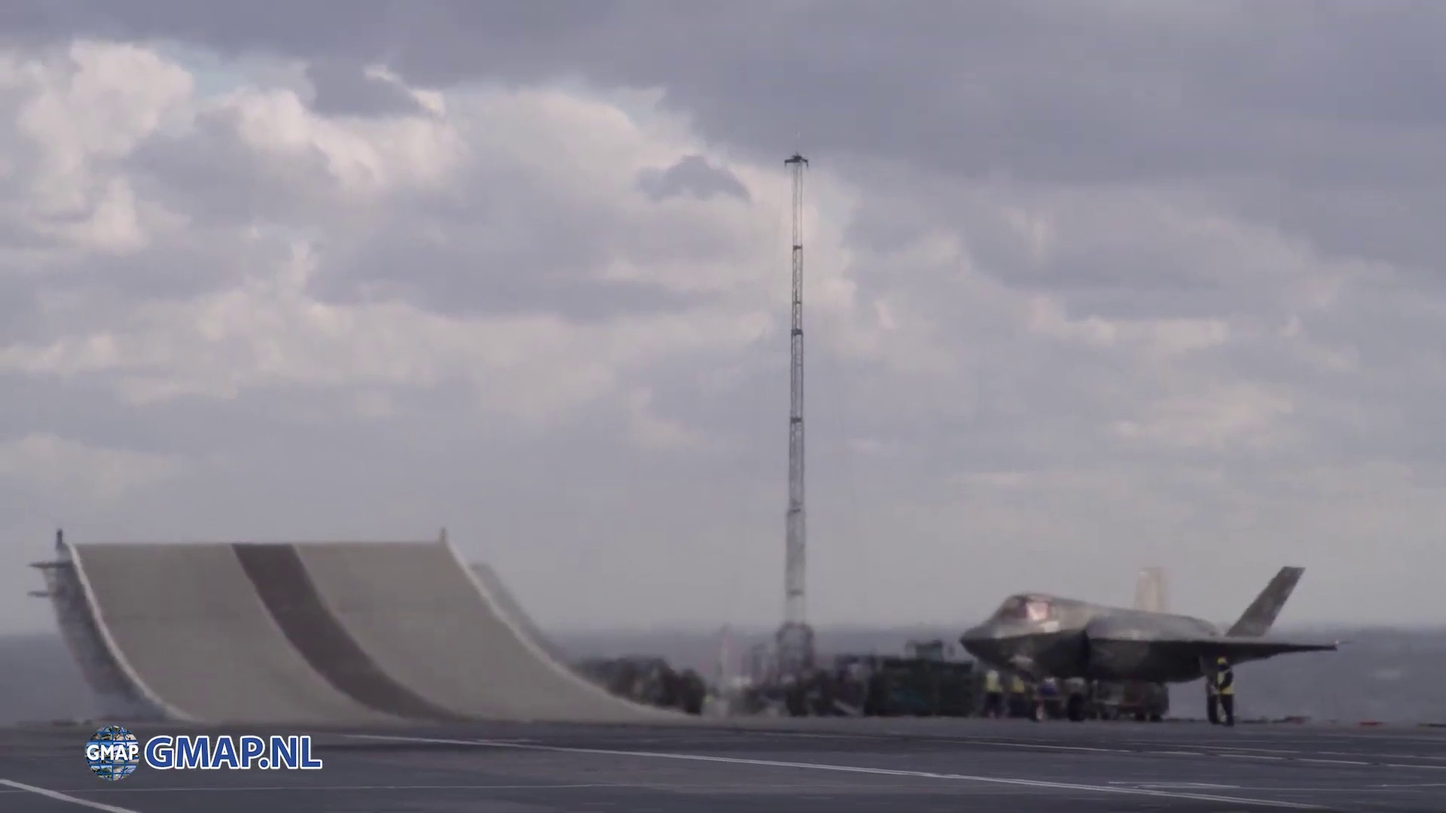F35: (956, 561, 1342, 726)
